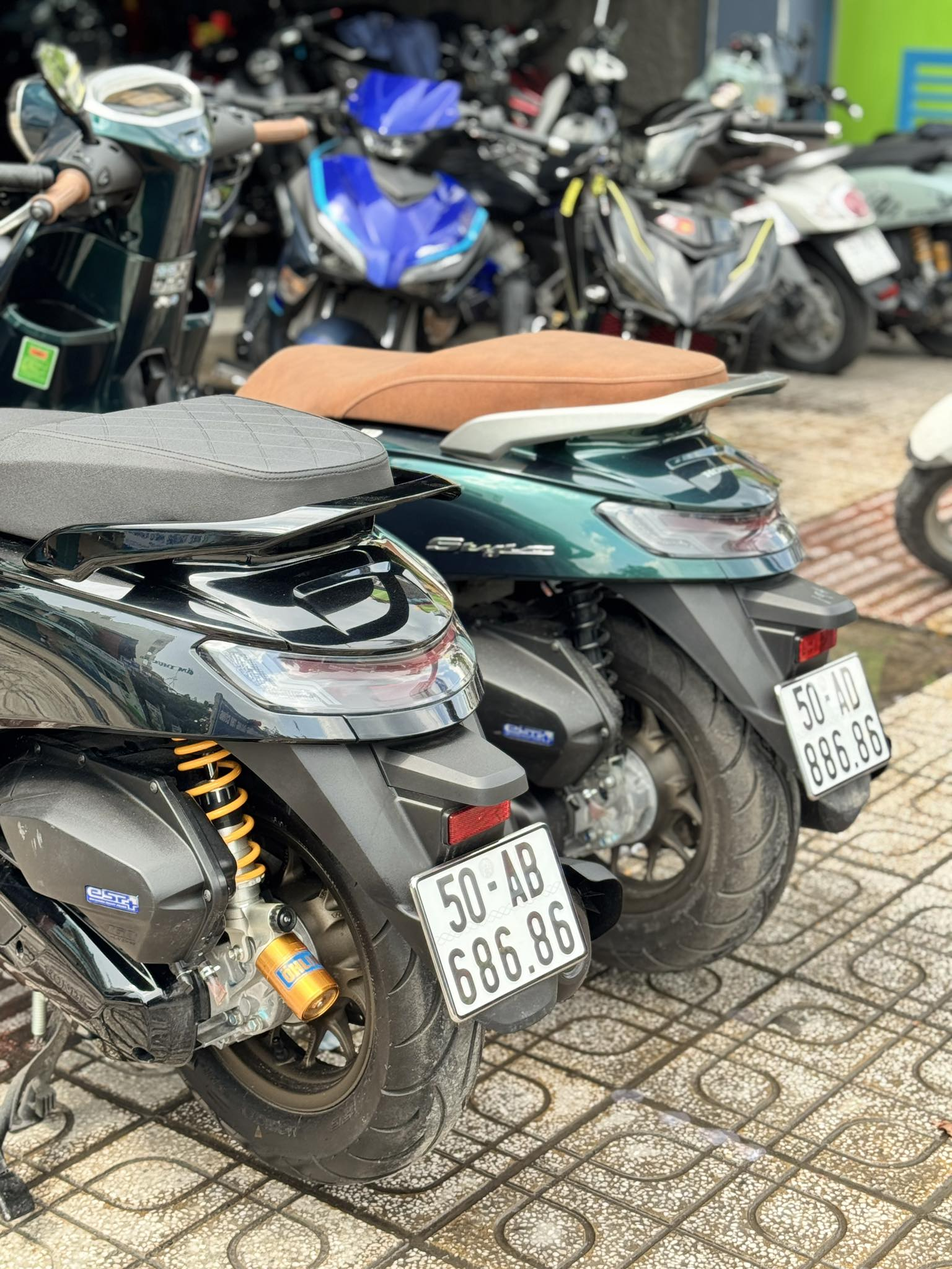bien_so: (401, 813, 598, 1036), (765, 645, 907, 807)
